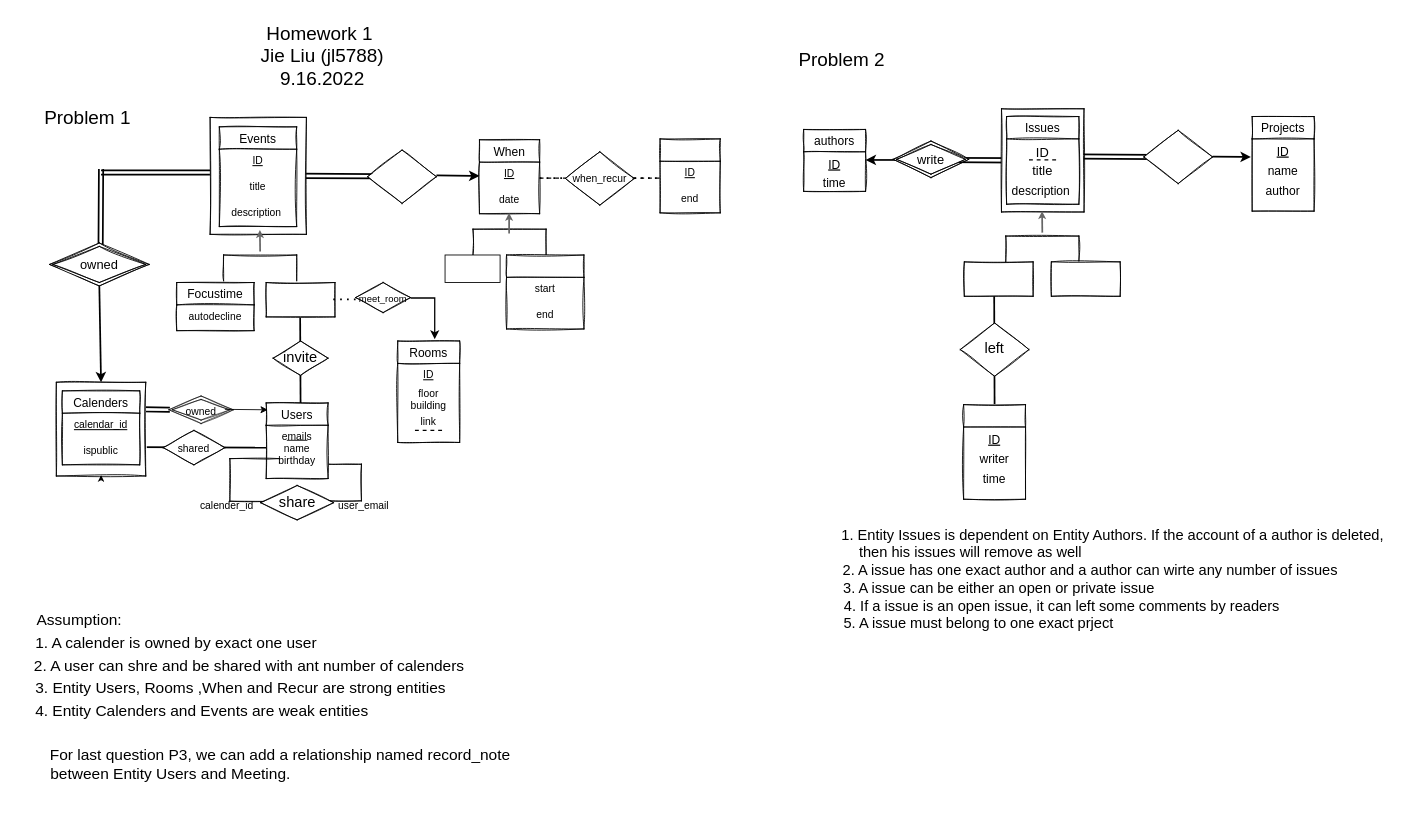
This 1409x834 diagram has some shape labels left out. Each missing label, with the box of its shape:
all day: (444, 254, 500, 283)
belong: (1143, 129, 1213, 184)
comments: (963, 404, 1026, 499)
meeting: (265, 282, 335, 317)
occur: (367, 149, 436, 203)
open: (963, 261, 1033, 296)
private: (1050, 261, 1120, 296)
Recur: (659, 138, 720, 213)
time range: (506, 254, 584, 329)
